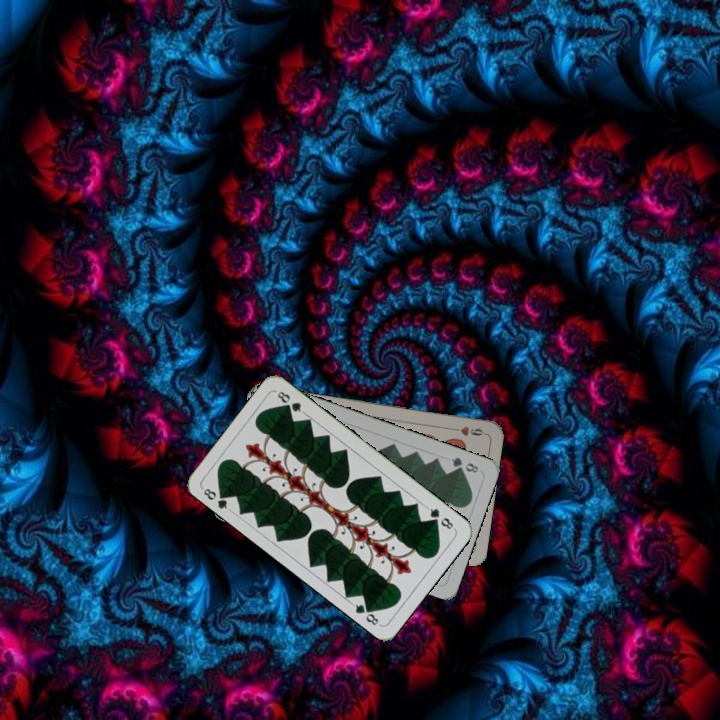G8: (198, 484, 233, 514), (422, 503, 457, 532), (447, 453, 481, 476)
H9: (448, 422, 488, 439)
